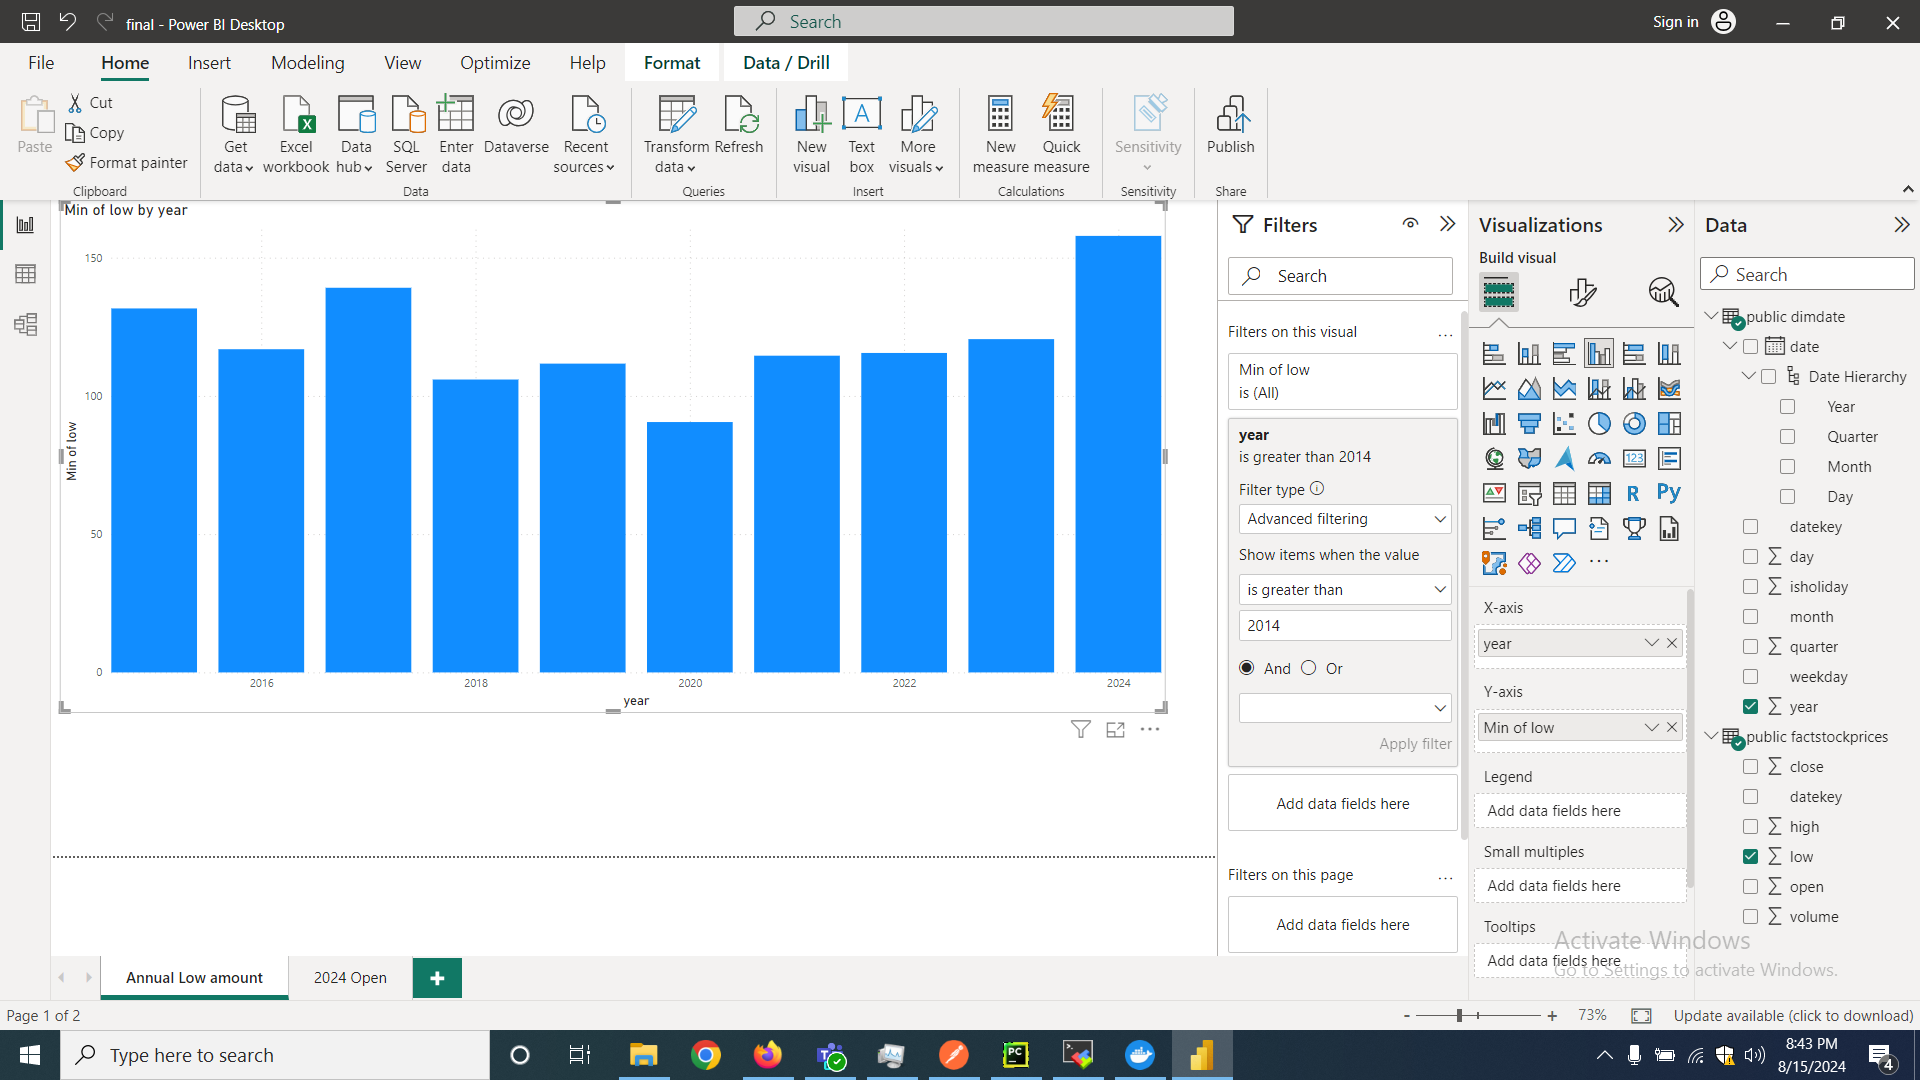

What the dashboard file says about the page in this screenshot:
{"tool":"powerbi","page":{"name":"Annual Low amount","canvas":[1280,720],"ordinal":0},"visuals":[{"type":"clusteredColumnChart","fields":{"Category":["public dimdate.year"],"Y":["Min(public factstockprices.low)"]},"box":[9.6,0,1214.4,562.6],"z":0}]}

Visuals, with their boxes on the page's 1280x720 design canvas (x1, y1, x2, y2). These are canvas units, not pixel positions in the 1920x1080 screenshot, which may show the page scaled, cropped or inside an application window:
clusteredColumnChart - public dimdate.year x Min(public factstockprices.low): l=10, t=0, r=1224, b=563
